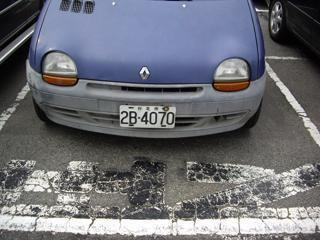plate: (118, 103, 176, 130)
